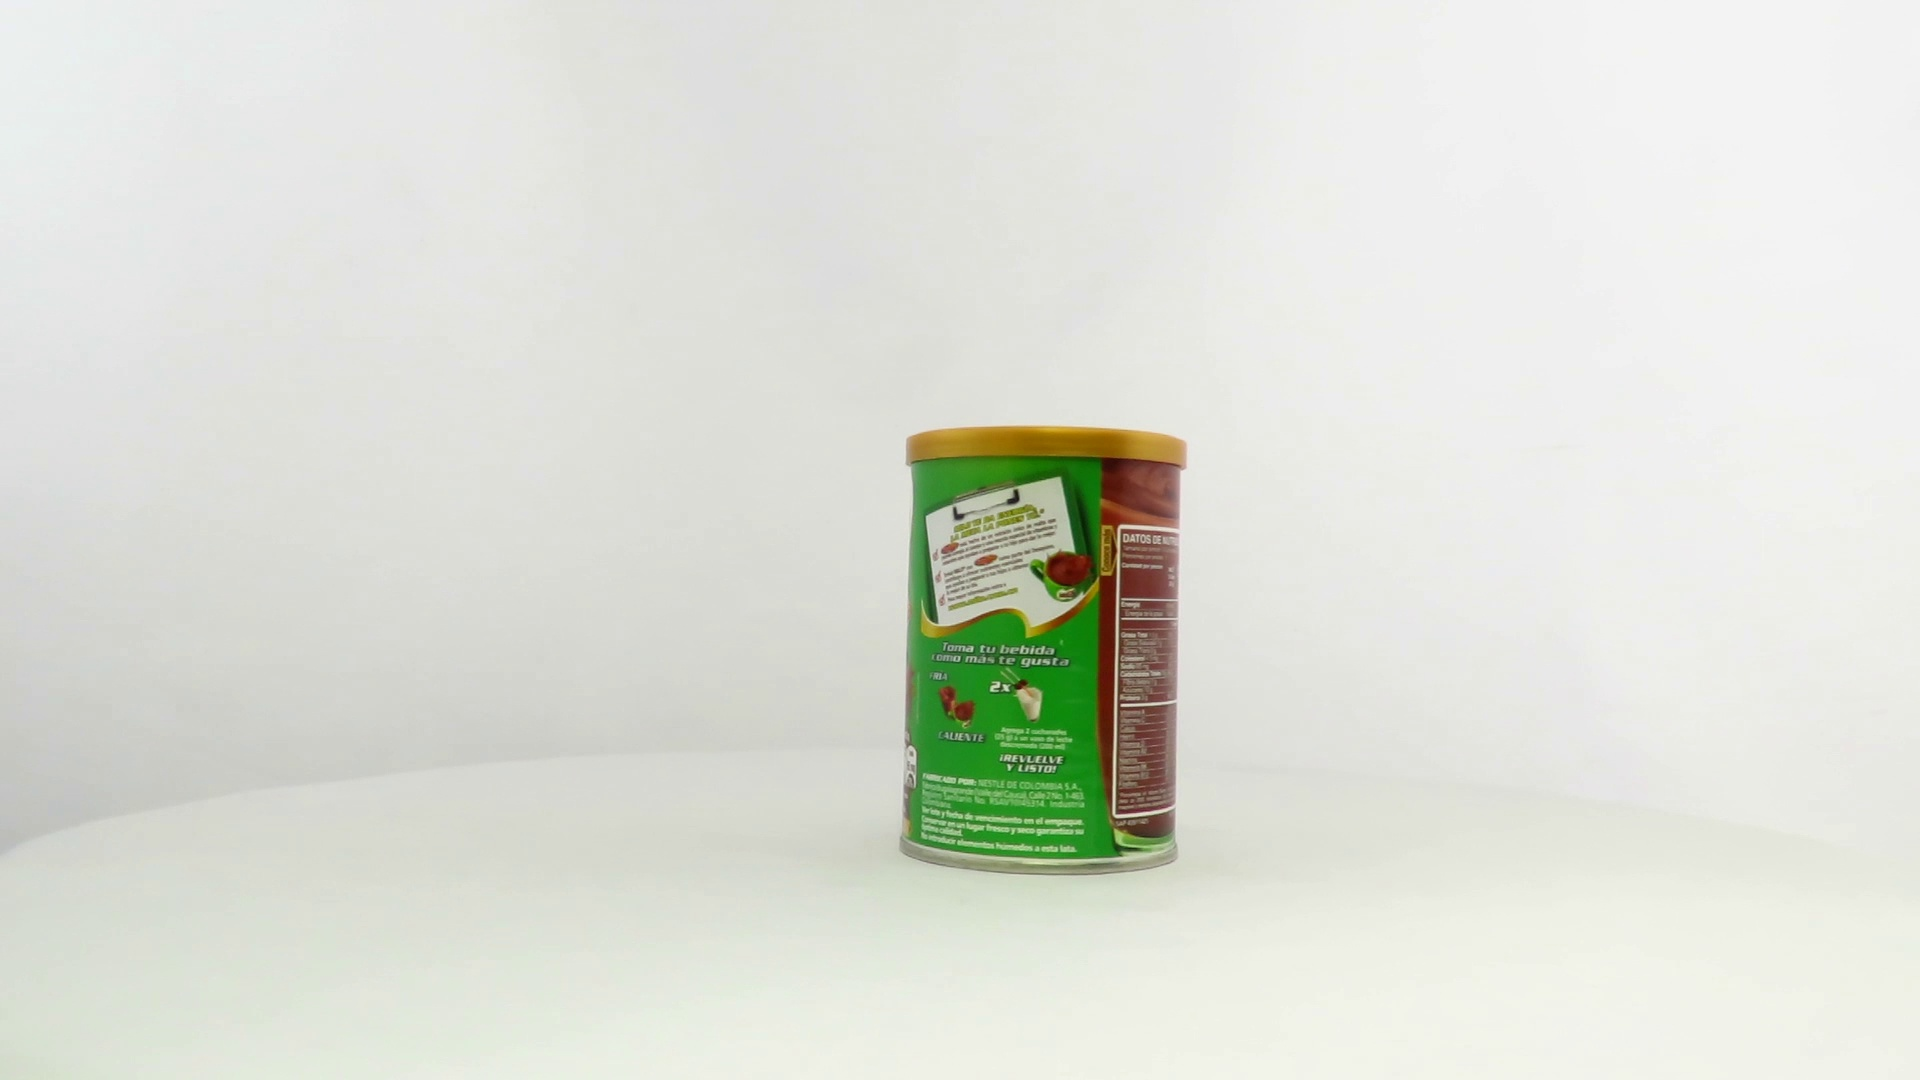COL0170203LAT20000: (893, 419, 1193, 882)
